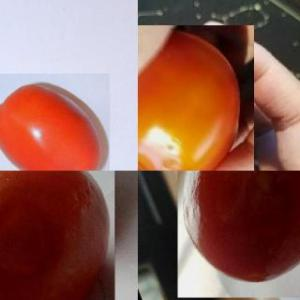tomato: (138, 25, 254, 170), (0, 74, 108, 170)
